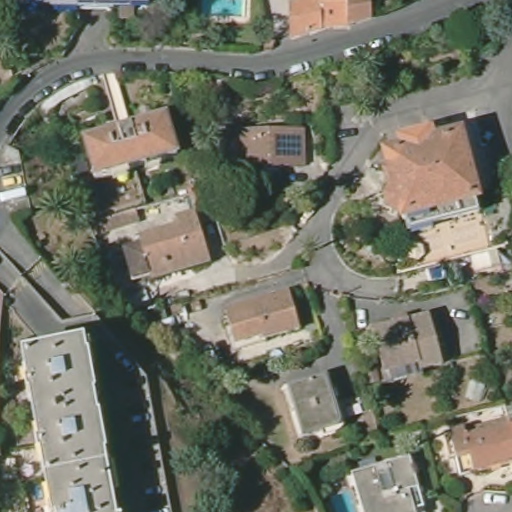pool: (198, 1, 248, 21), (331, 483, 358, 510)
